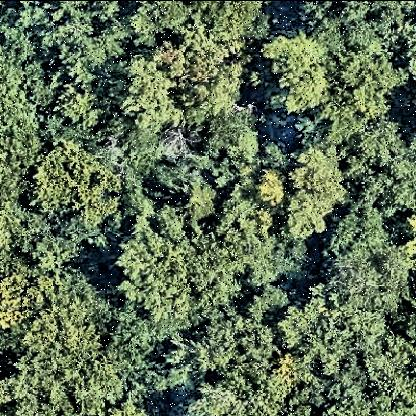tree-top: (8, 271, 114, 416), (113, 214, 209, 328), (333, 14, 405, 122), (193, 313, 282, 392), (33, 141, 118, 223), (23, 1, 114, 70), (280, 289, 358, 369), (260, 31, 334, 115), (349, 125, 416, 213), (215, 199, 284, 283), (284, 150, 350, 236), (172, 46, 248, 119), (335, 248, 415, 307), (116, 58, 180, 130), (1, 82, 37, 210), (203, 117, 265, 187), (151, 134, 208, 206), (357, 344, 416, 412), (188, 1, 268, 51), (183, 377, 277, 416), (111, 313, 163, 381), (288, 369, 362, 416), (47, 76, 104, 134), (122, 1, 169, 48), (177, 176, 219, 225), (396, 9, 416, 81), (254, 165, 288, 207), (97, 398, 164, 416)
